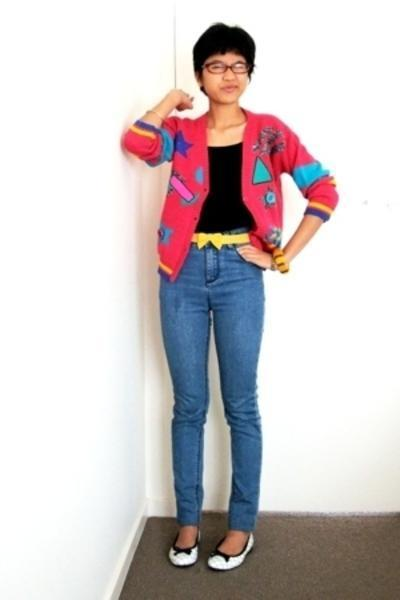jacket: (121, 102, 337, 275)
pants: (159, 241, 265, 539)
shirt: (195, 143, 251, 234)
shoe: (170, 534, 252, 568)
